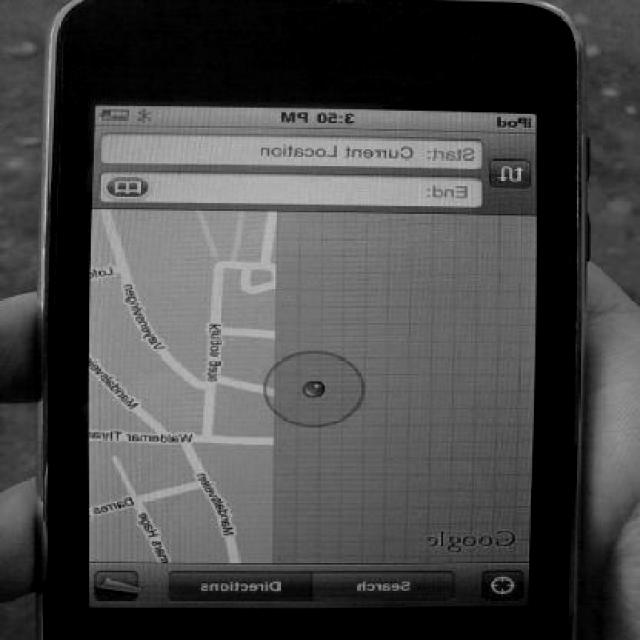fake: (26, 8, 626, 624)
